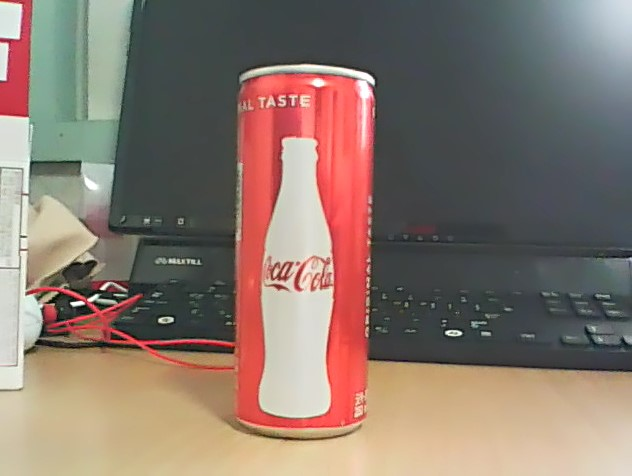Can: (229, 60, 381, 442)
